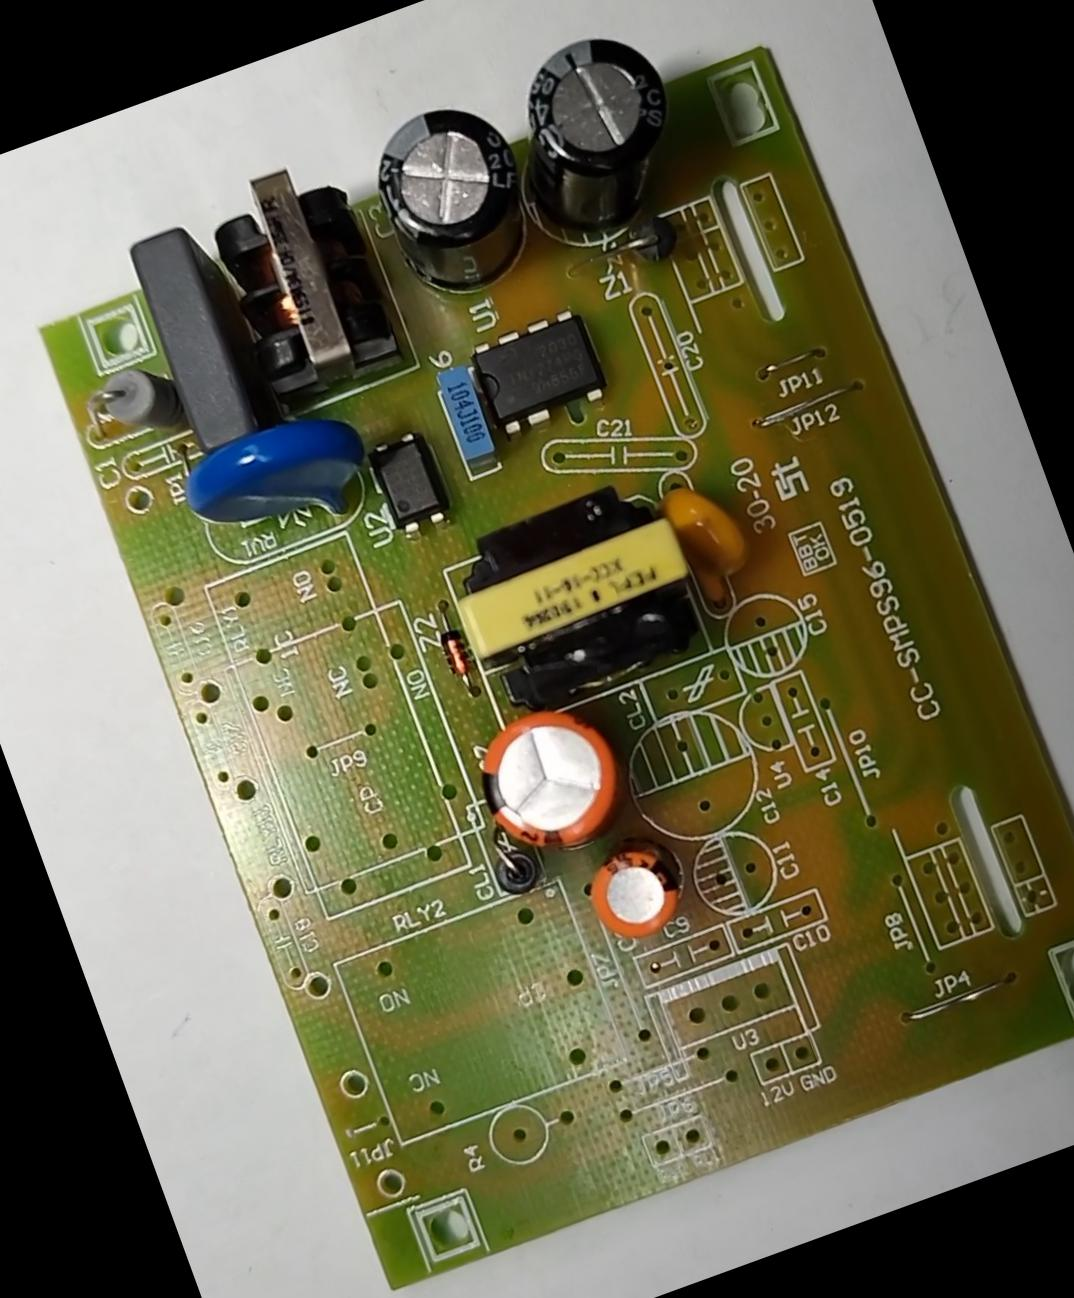Cap1: (465, 690, 637, 864)
Cap2: (576, 838, 688, 949)
Cap3: (358, 87, 553, 313)
Cap4: (487, 15, 710, 257)
MOSFET: (466, 305, 610, 438)
Mov: (165, 398, 384, 564)
Resistor: (88, 358, 187, 452)
Transformer: (437, 466, 719, 724), (188, 140, 412, 415)
